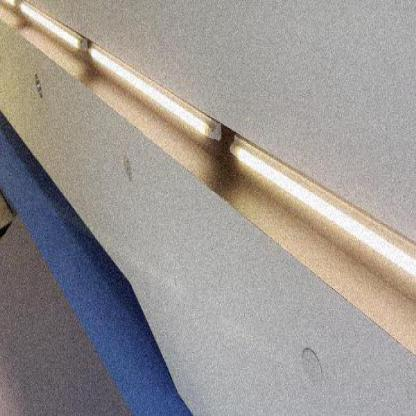light_on: (226, 129, 416, 301), (86, 40, 198, 136), (6, 0, 84, 65)
